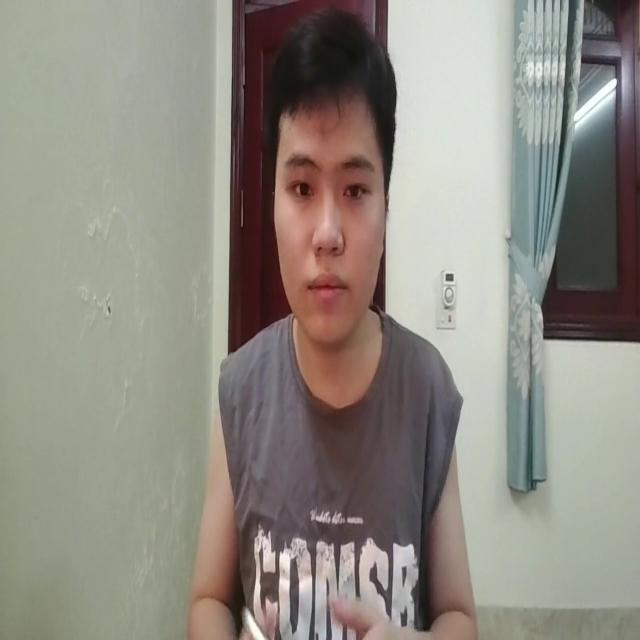student: (185, 9, 470, 640)
